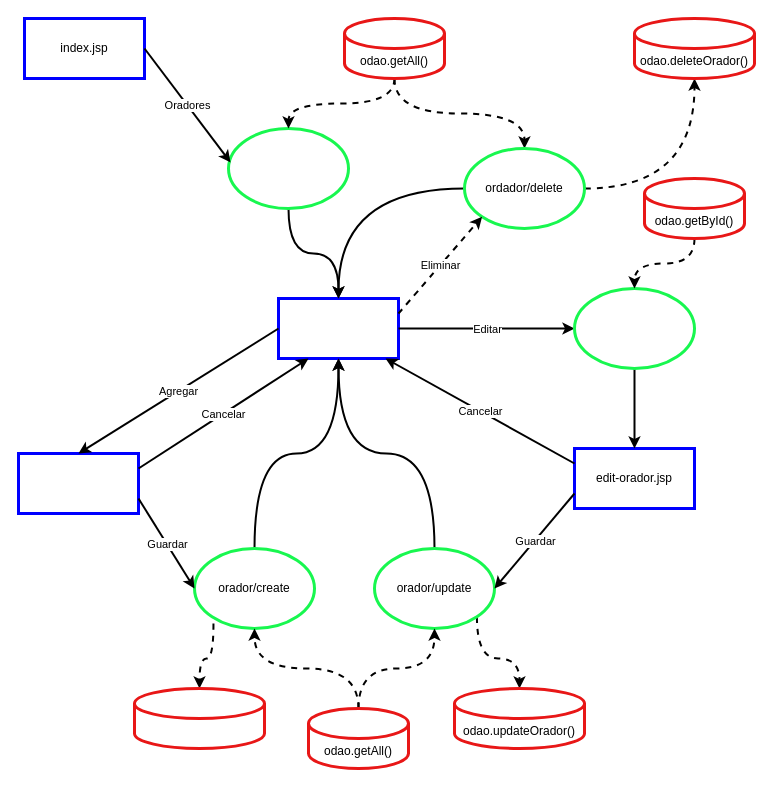
Image size: 773x787. Some labels were removed from this diagram. Each missing label, with the centre of its shape:
add-orador.jsp: (x=78, y=483)
list-oradores.jsp: (x=338, y=328)
odao.createOrador(): (x=199, y=718)
orador/edit: (x=634, y=328)
ordador/list: (x=288, y=168)
